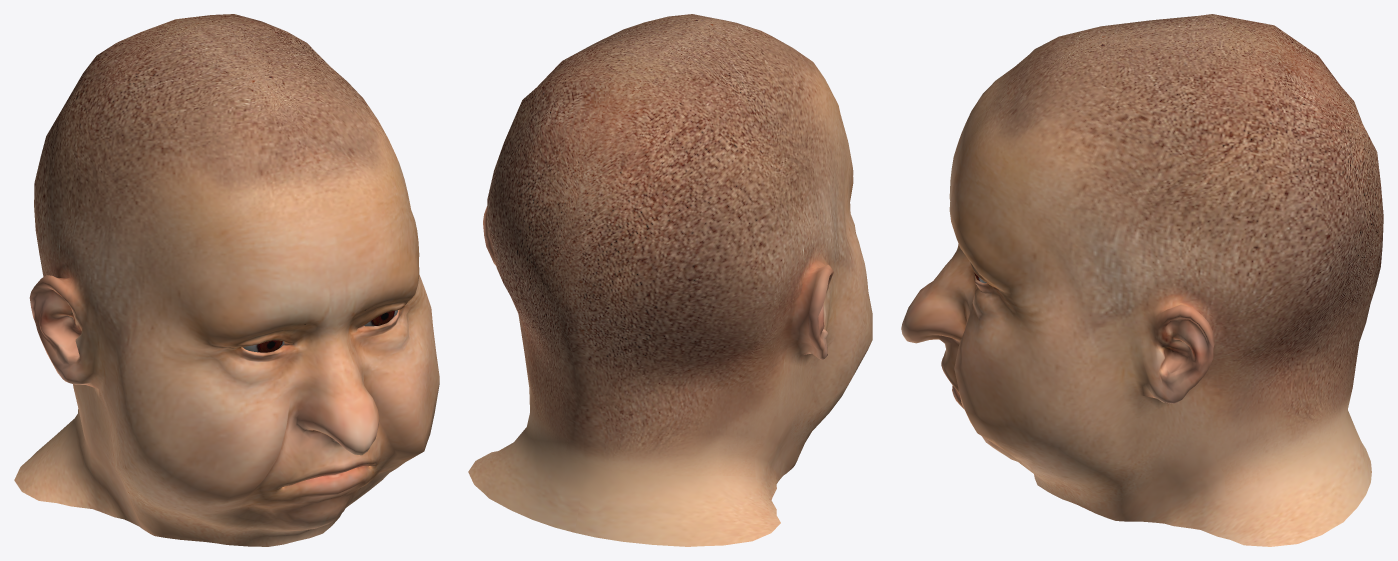
File: head_1_sub3.fbx
3 views of the same model, side by side, from view 1: azimuth 30°, elevation 25°; view 2: azimuth 150°, elevation 25°; view 3: azimuth 270°, elevation 25° (orthographic). The views are drawn at different scales.
Parts seen in each view (by area): view 1: head_1_sub3; view 2: head_1_sub3; view 3: head_1_sub3.
Part boxes in pixels (x1,y1,x2,y2): head_1_sub3: (14,14,439,546); head_1_sub3: (468,14,872,546); head_1_sub3: (901,14,1383,546).
Bounding box in the file's own units: 83.86 × 100 × 99.01.
Materials: 1 (1 with a texture image).
